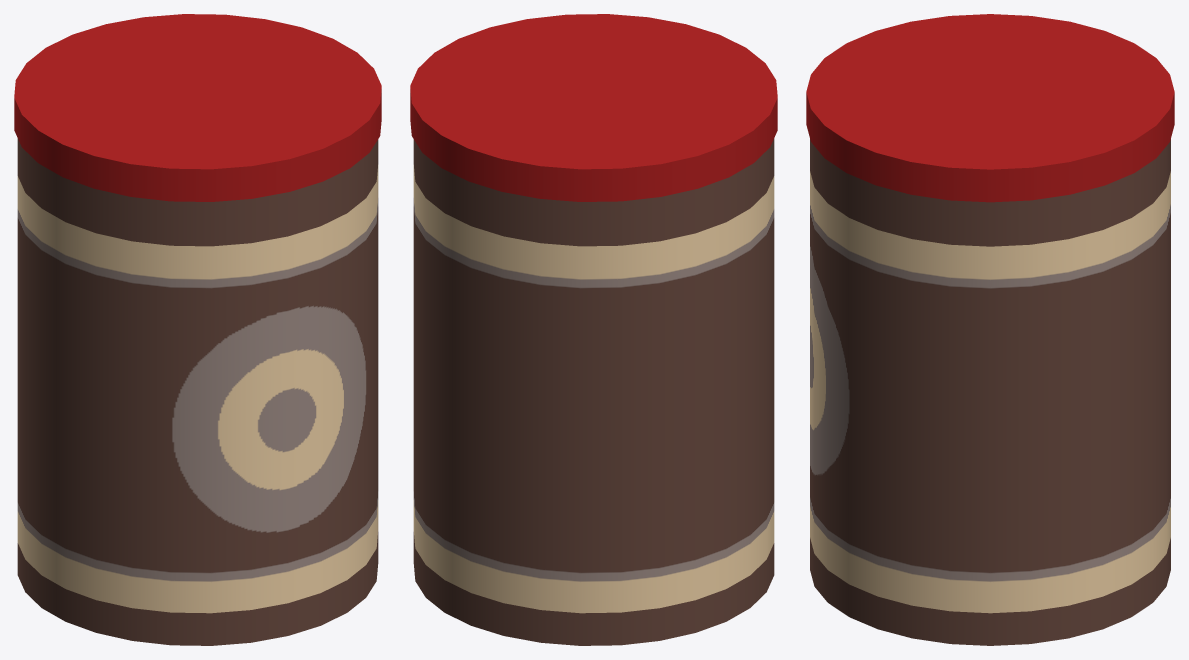
Rendered from Hot_Chocolate.fbx.
The picture shows the model from 3 angles, left to right: view 1: azimuth 30°, elevation 25°; view 2: azimuth 150°, elevation 25°; view 3: azimuth 270°, elevation 25°; orthographic projection.
Parts seen in each view (by area): view 1: Hot_Chocolate; view 2: Hot_Chocolate; view 3: Hot_Chocolate.
Part boxes in pixels (x1,y1,x2,y2): Hot_Chocolate: [14, 14, 381, 645]; Hot_Chocolate: [410, 14, 777, 645]; Hot_Chocolate: [806, 14, 1174, 645].
Bounding box in the file's own units: 0.102 × 0.15 × 0.102.
Materials: 3 (1 with a texture image).
